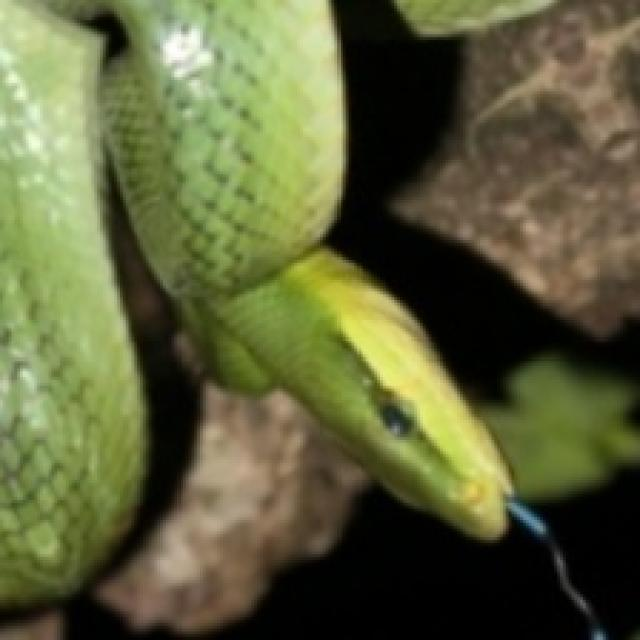red-tailed green ratsnake: (54, 0, 506, 534), (0, 0, 143, 603)
